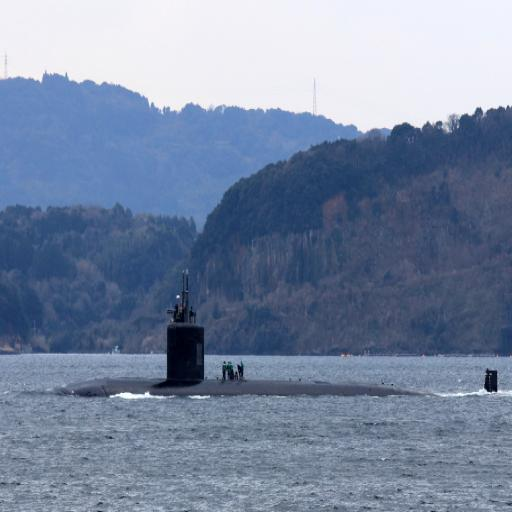submarine: (67, 265, 499, 396)
